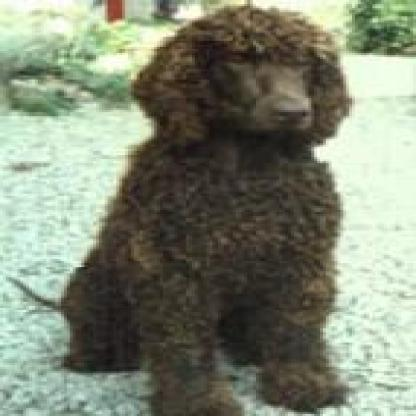Irish_water_spaniel: (3, 4, 352, 412)
